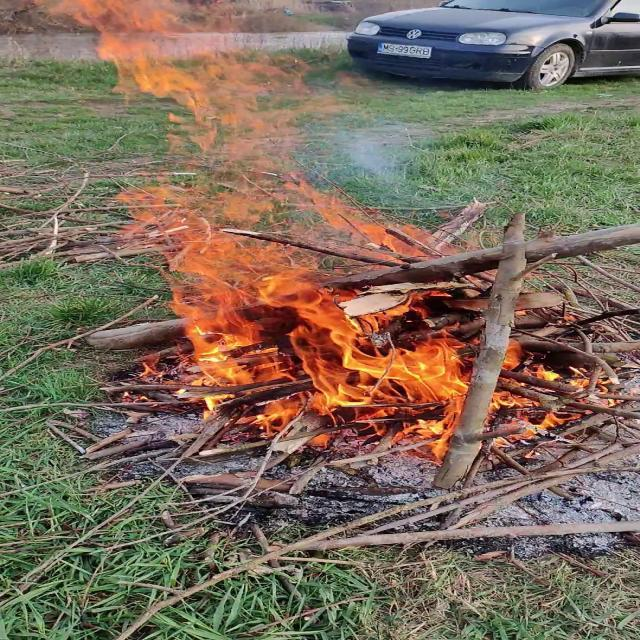Fire: (0, 0, 583, 476)
